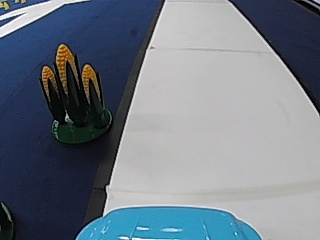corn: (37, 39, 115, 144)
